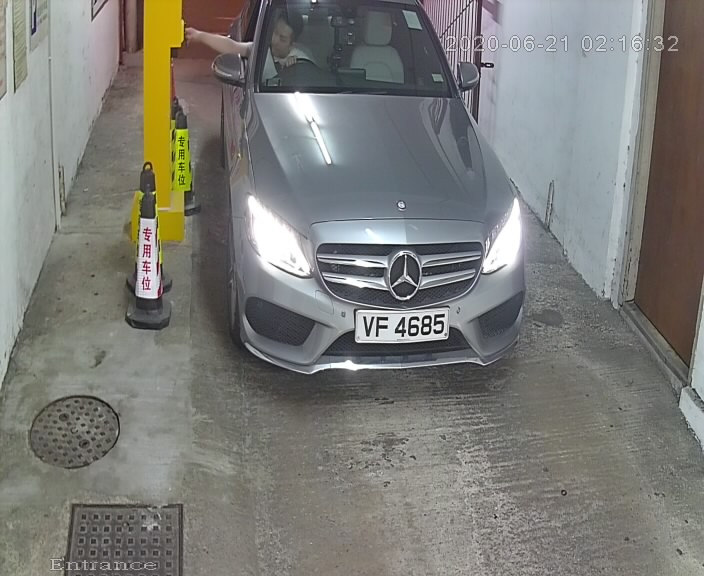privatecar: (193, 2, 547, 428)
